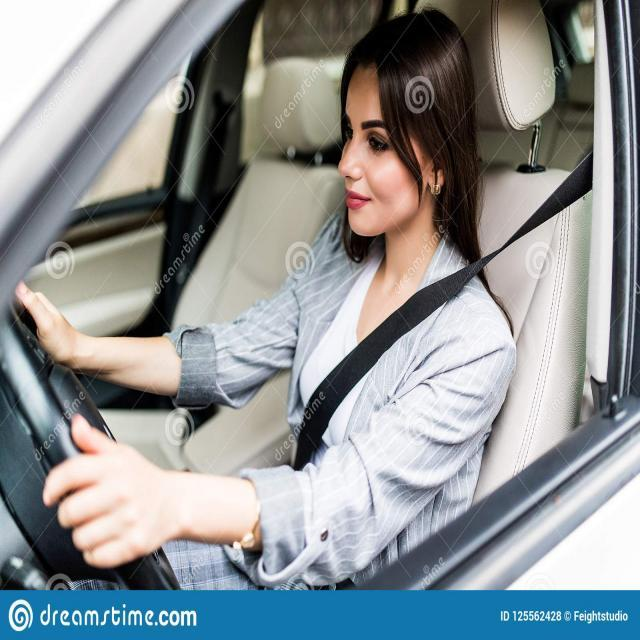seatbelt: (271, 140, 601, 472), (171, 89, 248, 272)
